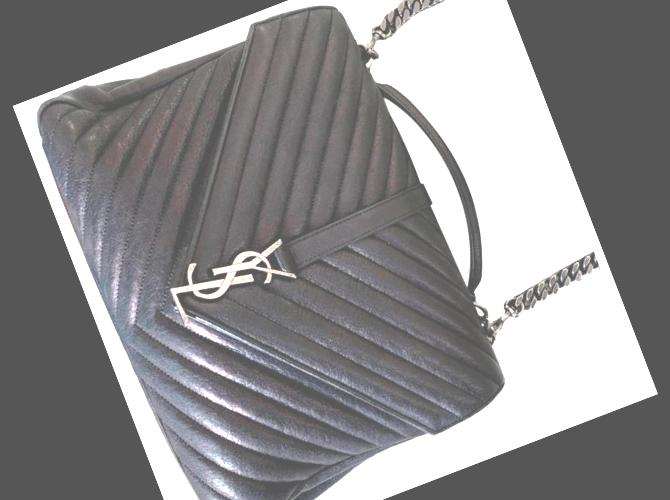YVES-SAINT-LAURENT: (164, 231, 298, 326)
